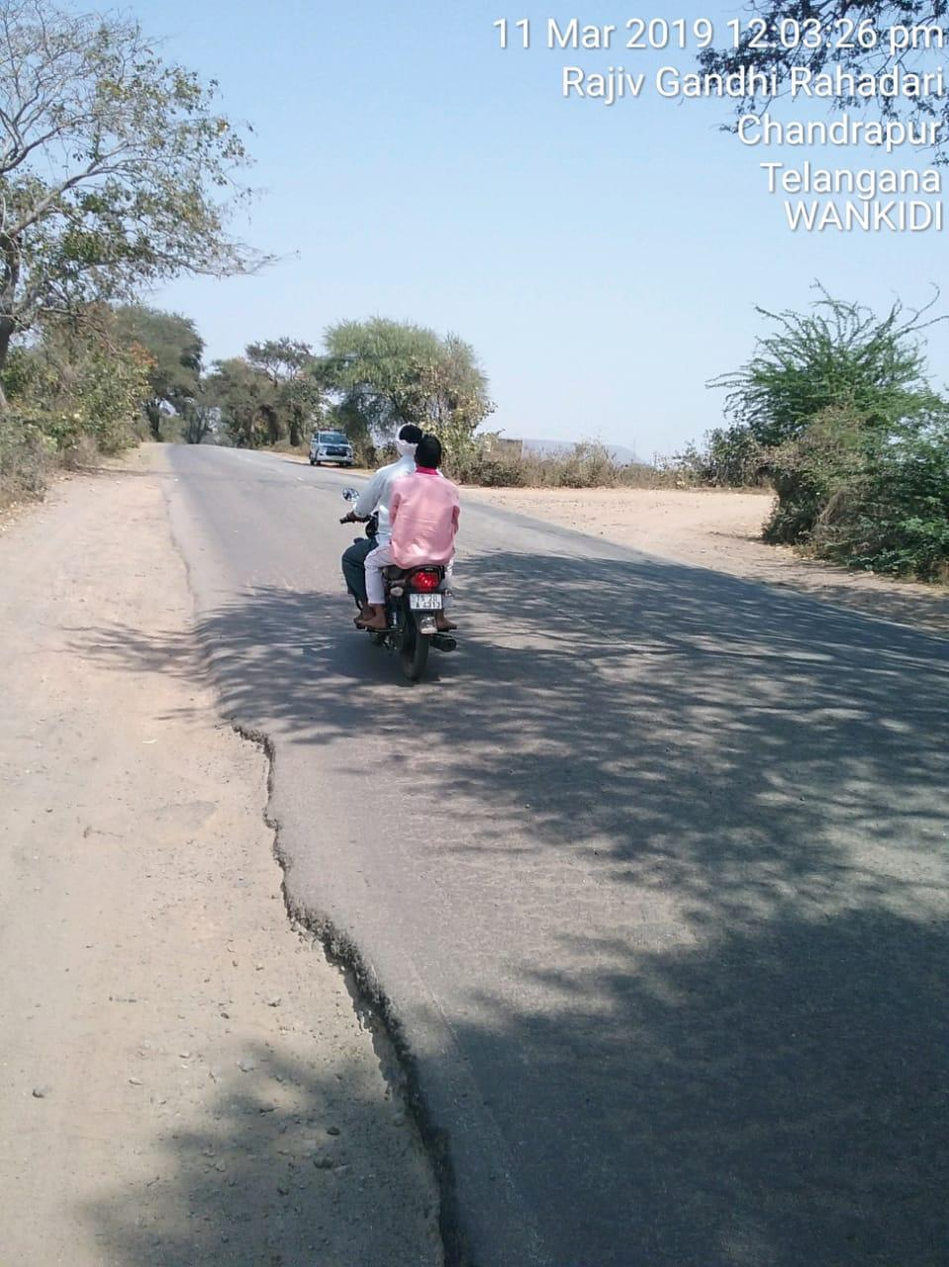plate: (408, 590, 446, 614)
